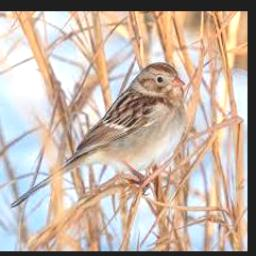Sparrow: (11, 62, 186, 209)
